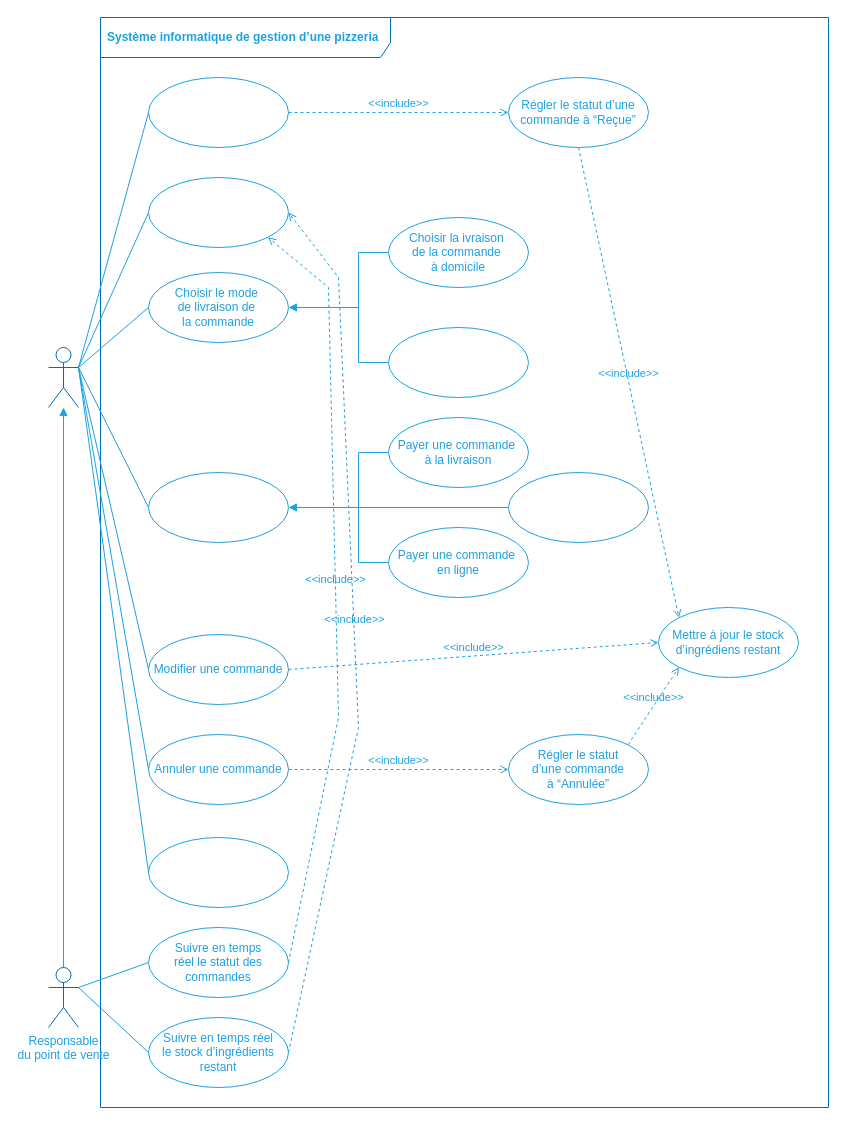
Image size: 846x1125. Some labels were removed from this diagram. The shapes that lost their labels are listed below. From the top down, each one's centre as x and y in pixels, then its label:
(218,112): Passer une commande
(218,212): S’authentifier
(63,377): Client
(458,362): Choisir le retrait de la commande sur place
(218,507): Payer une commande
(578,507): Payer une commande sur place
(218,872): Savoir quelles pizzas peuvent encore être réalisées
